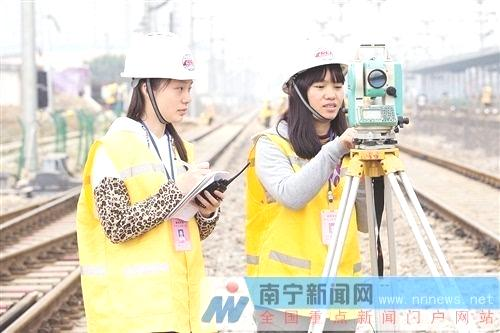helmet: (120, 28, 203, 125), (278, 37, 352, 122)
reflective: (72, 118, 206, 333), (243, 125, 367, 301)
